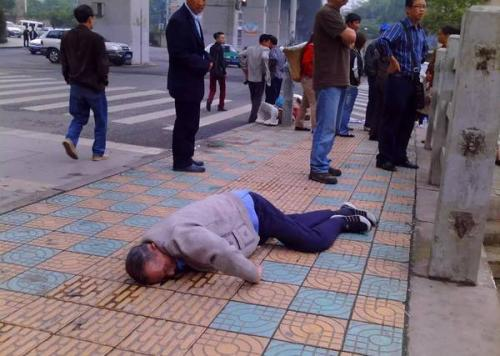fall: (120, 177, 378, 297)
